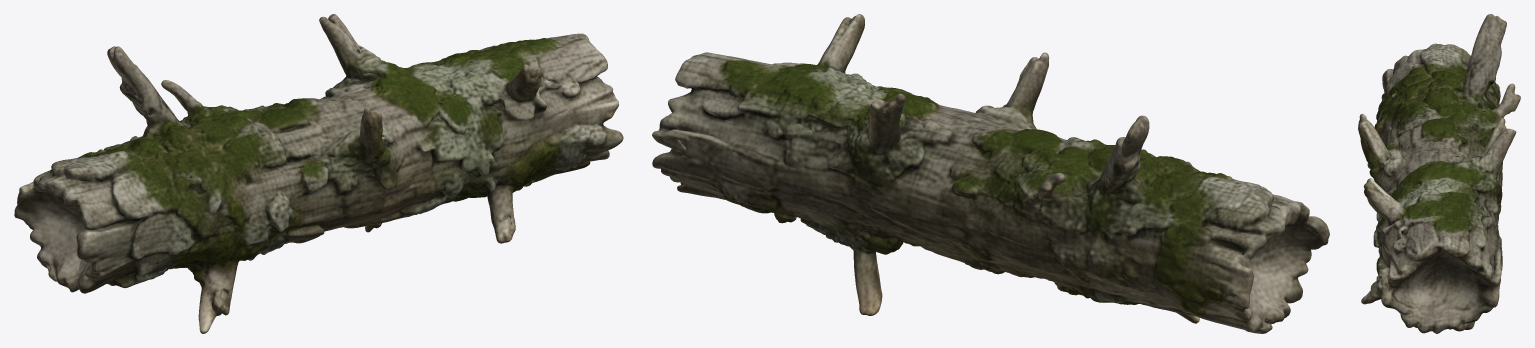
The model's file is task-4897089.glb.
3 renders of one model, left to right at view 1: azimuth 30°, elevation 25°; view 2: azimuth 150°, elevation 25°; view 3: azimuth 270°, elevation 25°, orthographic. The views are drawn at different scales.
Parts seen in each view (by area): view 1: world; view 2: world; view 3: world.
Part boxes in pixels (bbox=[...]): world: bbox=[14, 14, 623, 333]; world: bbox=[652, 14, 1329, 333]; world: bbox=[1358, 14, 1520, 333].
Size of the model in its own units: 1.2 by 0.5099 by 0.3877.
Materials: 1 (1 with a texture image).
